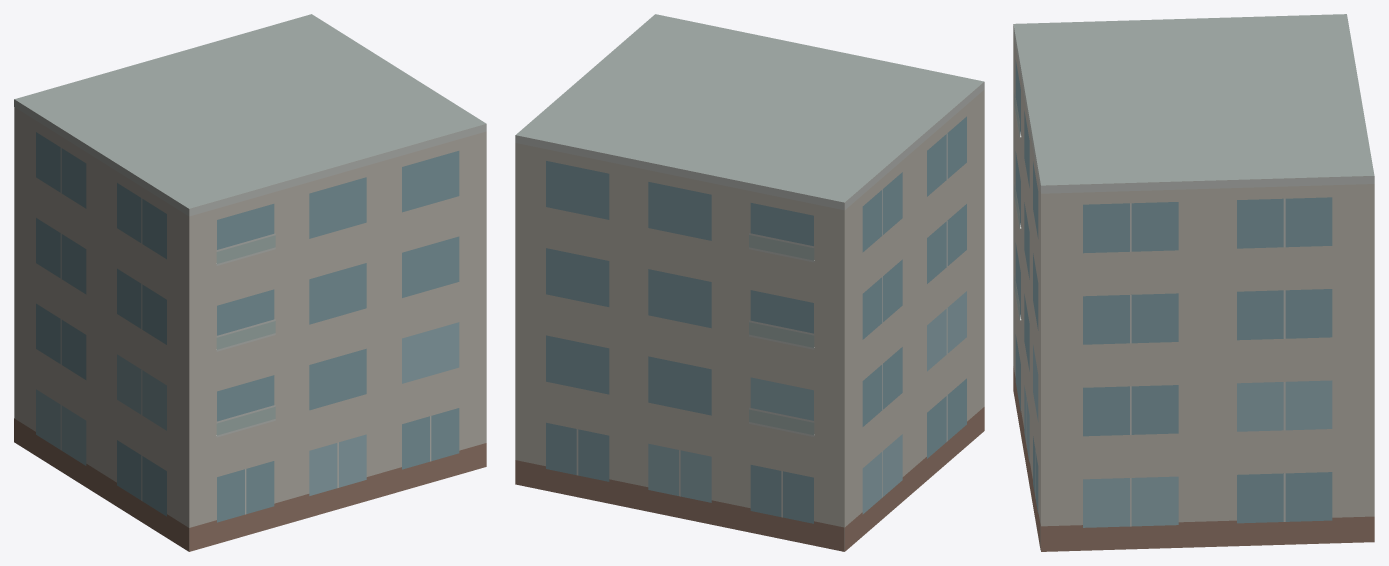
File: survey-upis-32531207.glb
3 views of the same model, side by side, from view 1: azimuth 30°, elevation 25°; view 2: azimuth 150°, elevation 25°; view 3: azimuth 270°, elevation 25° (orthographic). The views are drawn at different scales.
Visible parts, largest first — view 1: survey-upis-32531207.tmp; view 2: survey-upis-32531207.tmp; view 3: survey-upis-32531207.tmp.
Part boxes in pixels (left/top/right/bottom): survey-upis-32531207.tmp: left=14, top=14, right=486, bottom=551; survey-upis-32531207.tmp: left=515, top=14, right=984, bottom=551; survey-upis-32531207.tmp: left=1013, top=14, right=1374, bottom=551.
Bounding box in the file's own units: 11.02 × 10.96 × 9.8.
